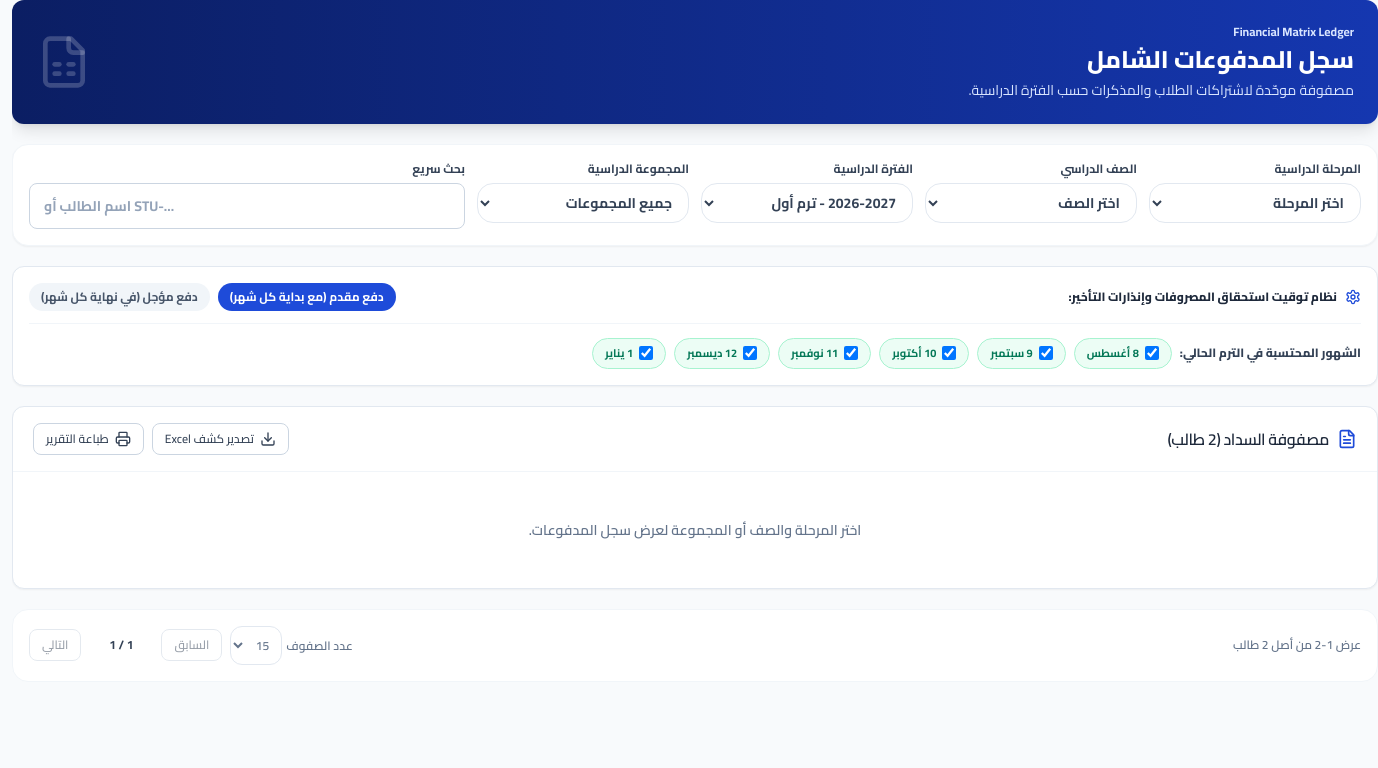
Test: FinancialMatrixLedger › renders only booklets for the selected grade
Select "الثانوية" in the dropdown labelled "المرحلة الدراسية" at (1255, 203), box [1149,183,1361,223]
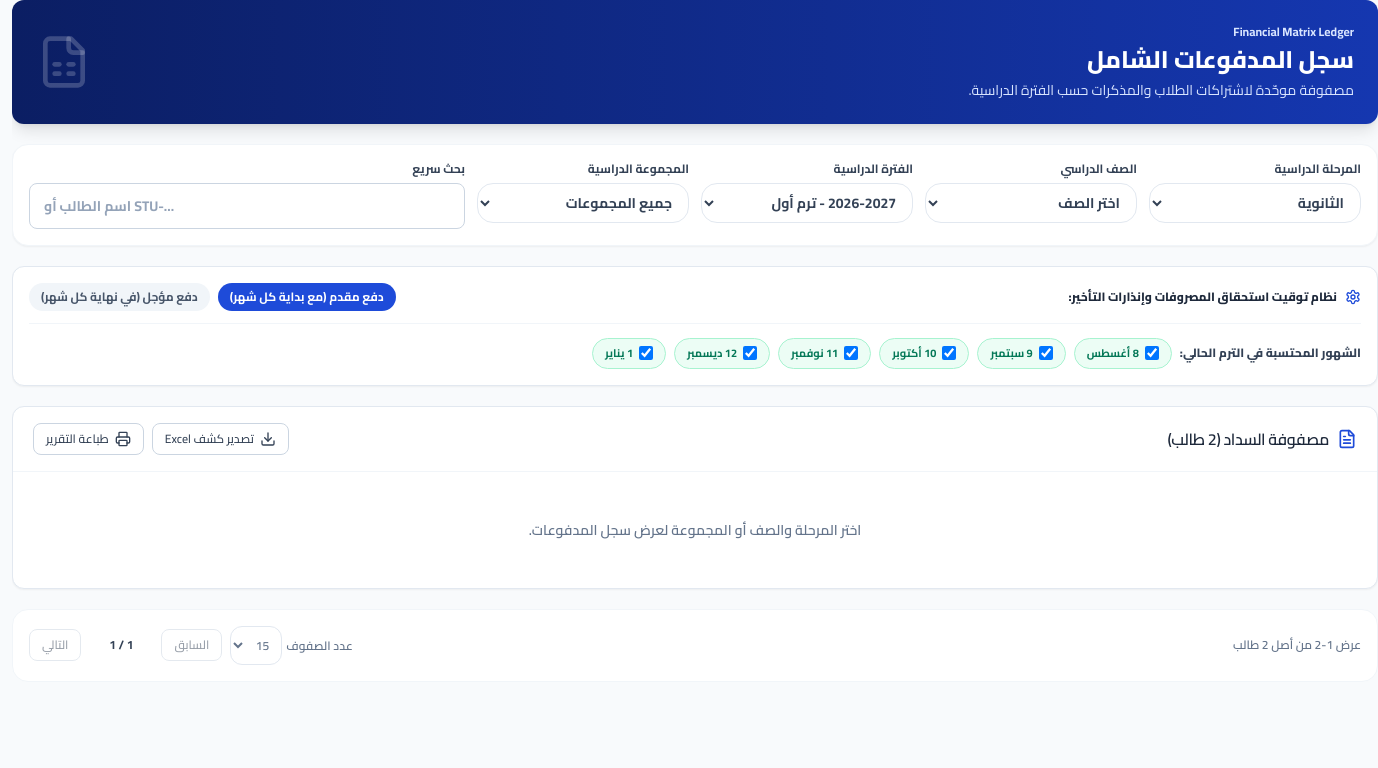
Select "الصف الأول الثانوي" in the dropdown labelled "الصف الدراسي" at (1031, 203), box [925,183,1137,223]
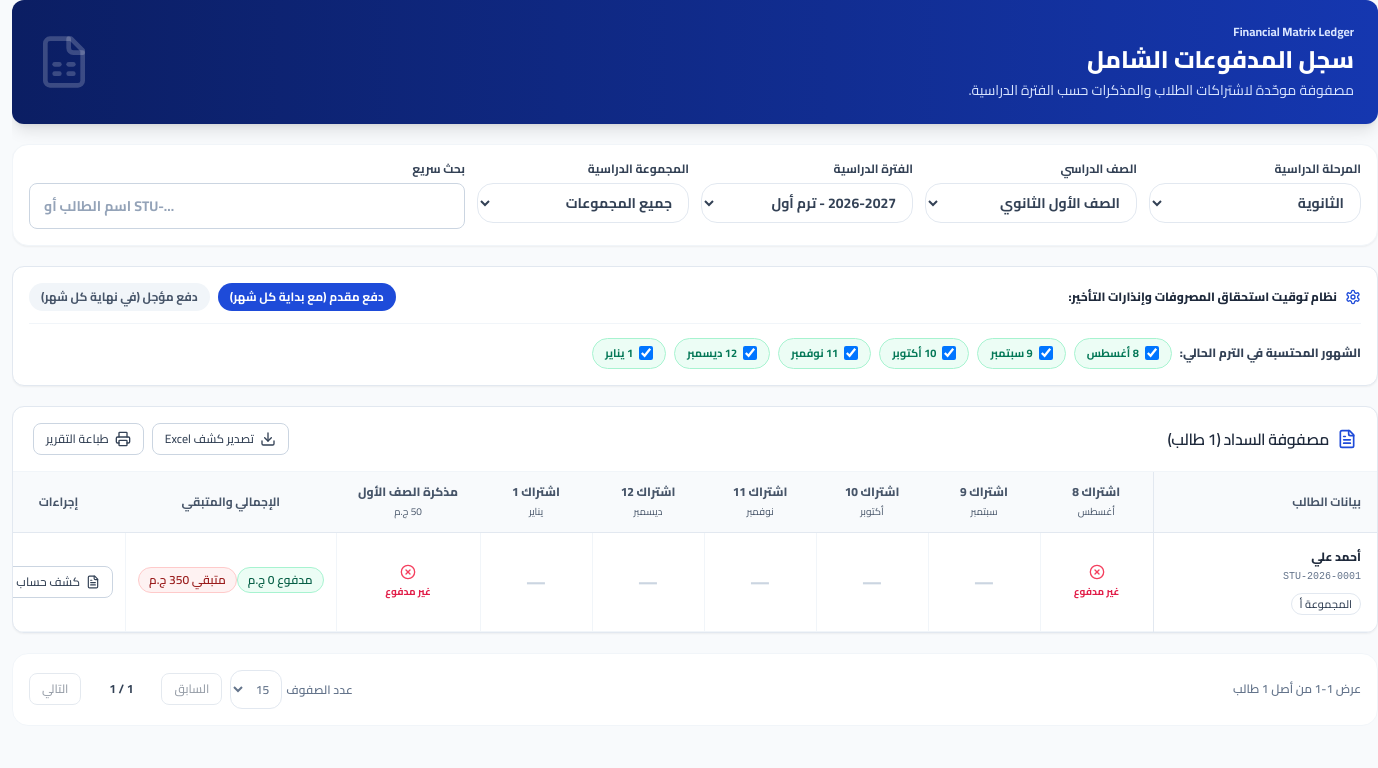
Expected: the text "مذكرة الصف الأول" is shown, [358,480,458,502]
